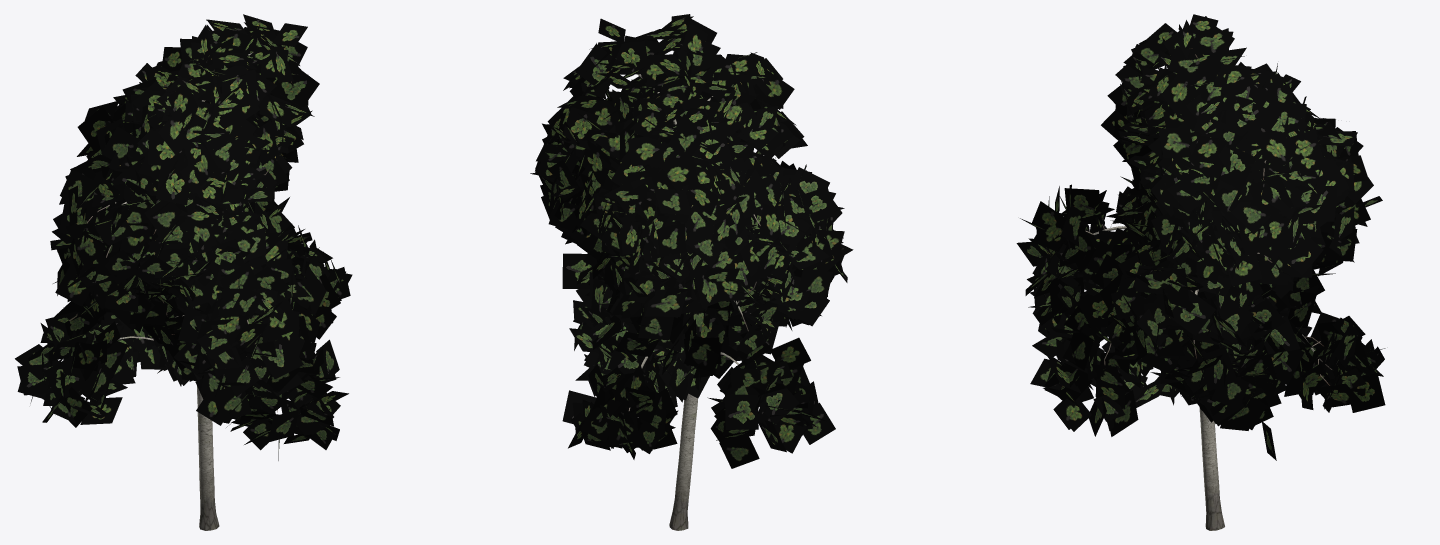
Rendered from birch.glb.
3 renders of one model, left to right at view 1: azimuth 30°, elevation 25°; view 2: azimuth 150°, elevation 25°; view 3: azimuth 270°, elevation 25°, orthographic.
Visible parts, largest first — view 1: birch_cards_LOD0, birch_LOD0; view 2: birch_cards_LOD0, birch_LOD0; view 3: birch_cards_LOD0, birch_LOD0.
Boxes of the visible parts, box(x1,y1,x2,y2) form: birch_cards_LOD0: box(15, 14, 352, 460); birch_LOD0: box(69, 38, 291, 530); birch_cards_LOD0: box(530, 14, 853, 468); birch_LOD0: box(628, 54, 760, 530); birch_cards_LOD0: box(1016, 14, 1385, 460); birch_LOD0: box(1085, 48, 1332, 530).
Size of what is drawn, in the model's own units: 13.21 by 16.48 by 12.31.
2 materials, 2 textured.
